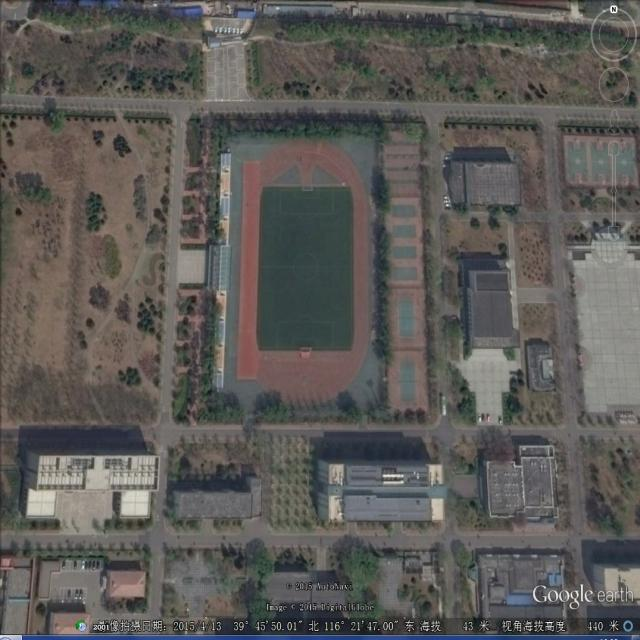playground: (235, 137, 373, 409)
